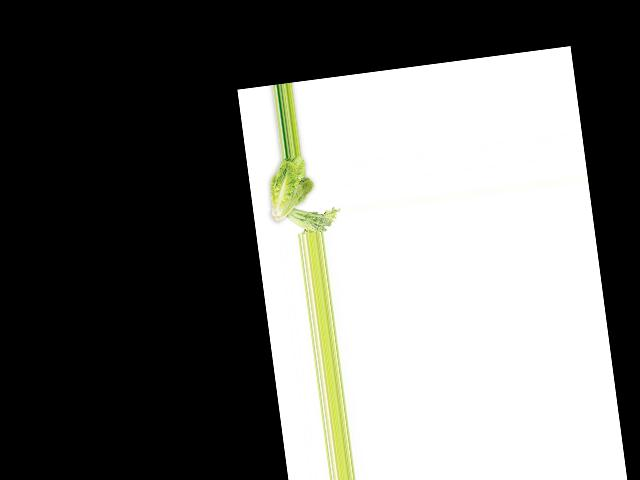lettuce: (265, 153, 323, 225)
